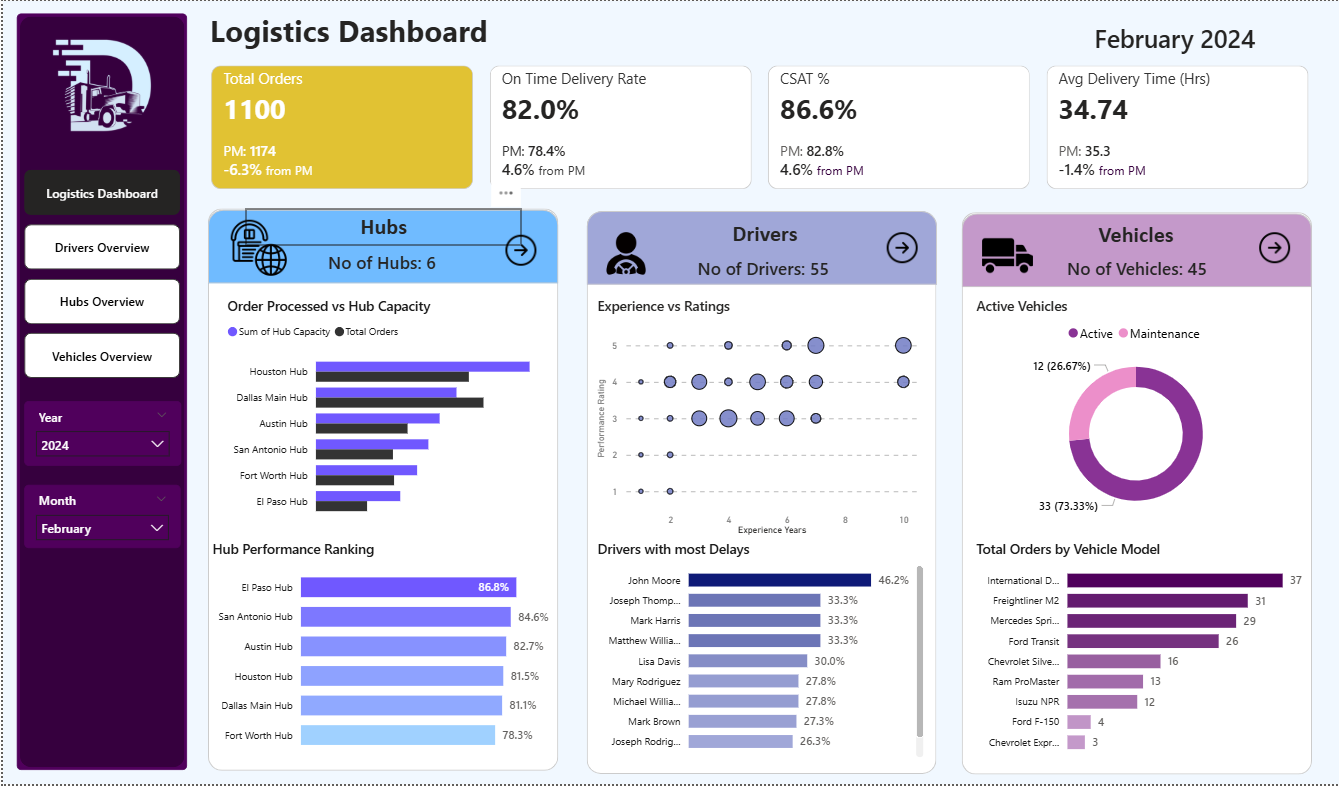

This screenshot's page, from the dashboard's own definition file:
{"tool":"powerbi","page":{"name":"Logistics Dashboard","canvas":[1450,850],"ordinal":0},"visuals":[{"type":"shape","box":[15.5,14,185,820.8],"z":0},{"type":"textbox","box":[219.7,5.4,383.8,58.3],"z":1000},{"type":"cardVisual","fields":{"Data":["Orders.Total Orders","Orders.On Time Delivery Rate","Orders.CSAT %","Orders.AVG Delivery Time (Hrs)"]},"box":[220.7,59.1,1200,149.2],"z":2000},{"type":"slicer","fields":{"Values":["Date Table.Year"]},"box":[22.9,434.3,170,70],"z":3000},{"type":"slicer","fields":{"Values":["Date Table.Month"]},"box":[23.1,525.2,169.5,69.2],"z":4000},{"type":"shape","box":[222.9,225.7,380,610],"z":5000},{"type":"shape","box":[222.9,227.1,380,80],"z":6000},{"type":"textbox","box":[262.9,225.7,300,40],"z":7000},{"type":"cardVisual","fields":{"Data":["Hubs.No of Hubs"]},"box":[308.6,264.3,204.3,35.7],"z":8000},{"type":"clusteredBarChart","title":"Order Processed vs Hub Capacity","fields":{"Category":["Hubs.HubName"],"Y":["Sum(Hubs.Hub Capacity)","Orders.Total Orders"]},"box":[238.6,320,350,250],"z":9000},{"type":"barChart","title":"Hub Performance Ranking","fields":{"Category":["Hubs.HubName"],"Y":["Orders.On Time Delivery Rate"]},"box":[222.9,584.3,380,241.4],"z":10000},{"type":"shape","box":[632.7,228.5,379.3,609.4],"z":11000},{"type":"shape","box":[632.7,228.4,380,80],"z":12000},{"type":"shape","box":[1039.9,228.5,380,610],"z":13000},{"type":"shape","box":[1040.1,230.5,379.7,80],"z":14000},{"type":"textbox","box":[677,232,300,40],"z":15000},{"type":"cardVisual","fields":{"Data":["Drivers.No of Drivers"]},"box":[722.7,270.6,204.3,35.7],"z":16000},{"type":"scatterChart","title":"Experience vs Ratings","fields":{"X":["Drivers.Experience Years"],"Y":["Drivers.Performance Rating"],"Size":["Sum(Drivers.Experience Years)1"]},"box":[640.4,320.2,363.7,264.3],"z":17000},{"type":"barChart","title":"Drivers with most Delays","fields":{"Category":["Drivers.DriverName"],"Y":["Orders.Delayed Delivery Rate"]},"box":[640.4,584.5,363.7,240.9],"z":18000},{"type":"textbox","box":[1079.5,233.2,299.7,39.3],"z":19000},{"type":"cardVisual","fields":{"Data":["Vehicles.No of Vehicles"]},"box":[1128.3,271.2,204.8,35.3],"z":20000},{"type":"donutChart","title":"Active Vehicles","fields":{"Category":["Vehicles.Vehicle Status"],"Y":["Vehicles.Total Vehicles"]},"box":[1051,320,356.7,249.5],"z":21000},{"type":"barChart","fields":{"Category":["Vehicles.Vehicle Model"],"Y":["Orders.Total Orders"]},"box":[1051,584.5,363.4,241.4],"z":22000},{"type":"image","box":[43.4,29.8,130.2,131.5],"z":23000},{"type":"cardVisual","fields":{"Data":["Orders.Year Month Title"]},"box":[1128.3,13.6,286.1,50.2],"z":24000},{"type":"image","box":[954.7,250.9,42,33.9],"z":25000},{"type":"image","box":[541.1,253.6,42,33.9],"z":26000},{"type":"pageNavigator","box":[23.1,183.1,169.5,226.5],"z":26001},{"type":"image","box":[1358.8,250.9,42,33.9],"z":26002},{"type":"image","box":[649.6,248.2,52.9,51.5],"z":26003},{"type":"image","box":[245.5,237.3,63.7,61],"z":26004},{"type":"image","box":[1051,248.2,77.3,55.6],"z":26005}]}

Visuals, with their boxes in screenshot pixels (x1, y1, x2, y2), scaled from the page's 1450x850 canvas onto the 1339x786 screenshot:
shape: <bbox>14, 13, 185, 772</bbox>
textbox: <bbox>203, 5, 557, 59</bbox>
cardVisual - Orders.Total Orders x Orders.On Time Delivery Rate: <bbox>204, 55, 1312, 193</bbox>
slicer - Date Table.Year: <bbox>21, 402, 178, 466</bbox>
slicer - Date Table.Month: <bbox>21, 486, 178, 550</bbox>
shape: <bbox>206, 209, 557, 773</bbox>
shape: <bbox>206, 210, 557, 284</bbox>
textbox: <bbox>243, 209, 520, 246</bbox>
cardVisual - Hubs.No of Hubs: <bbox>285, 244, 474, 277</bbox>
"Order Processed vs Hub Capacity" clusteredBarChart: <bbox>220, 296, 544, 527</bbox>
"Hub Performance Ranking" barChart: <bbox>206, 540, 557, 764</bbox>
shape: <bbox>584, 211, 935, 775</bbox>
shape: <bbox>584, 211, 935, 285</bbox>
shape: <bbox>960, 211, 1311, 775</bbox>
shape: <bbox>960, 213, 1311, 287</bbox>
textbox: <bbox>625, 215, 902, 252</bbox>
cardVisual - Drivers.No of Drivers: <bbox>667, 250, 856, 283</bbox>
"Experience vs Ratings" scatterChart: <bbox>591, 296, 927, 540</bbox>
"Drivers with most Delays" barChart: <bbox>591, 540, 927, 763</bbox>
textbox: <bbox>997, 216, 1274, 252</bbox>
cardVisual - Vehicles.No of Vehicles: <bbox>1042, 251, 1231, 283</bbox>
"Active Vehicles" donutChart: <bbox>971, 296, 1300, 527</bbox>
barChart - Vehicles.Vehicle Model x Orders.Total Orders: <bbox>971, 540, 1306, 764</bbox>
image: <bbox>40, 28, 160, 149</bbox>
cardVisual - Orders.Year Month Title: <bbox>1042, 13, 1306, 59</bbox>
image: <bbox>882, 232, 920, 263</bbox>
image: <bbox>500, 235, 538, 266</bbox>
pageNavigator: <bbox>21, 169, 178, 379</bbox>
image: <bbox>1255, 232, 1294, 263</bbox>
image: <bbox>600, 230, 649, 277</bbox>
image: <bbox>227, 219, 286, 276</bbox>
image: <bbox>971, 230, 1042, 281</bbox>
